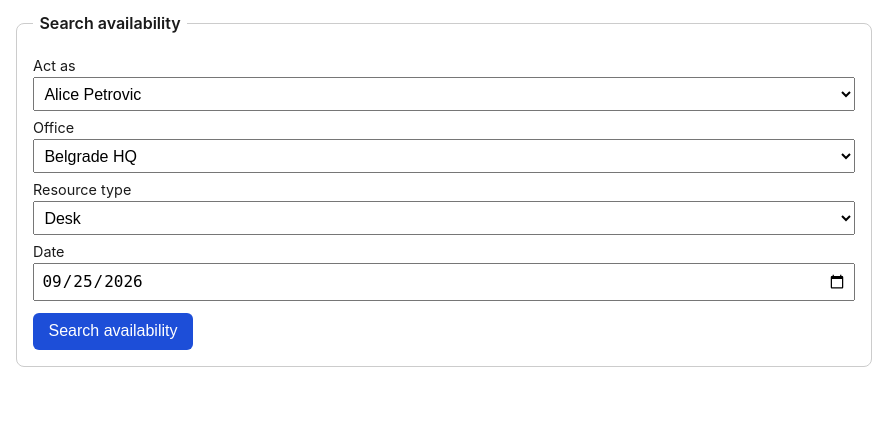
Test: SearchPanel (TASK-17 §A, booking creation rendering) › renders an error message when availability search fails
Click the button "Search availability": (113, 332) [33,313,193,350]
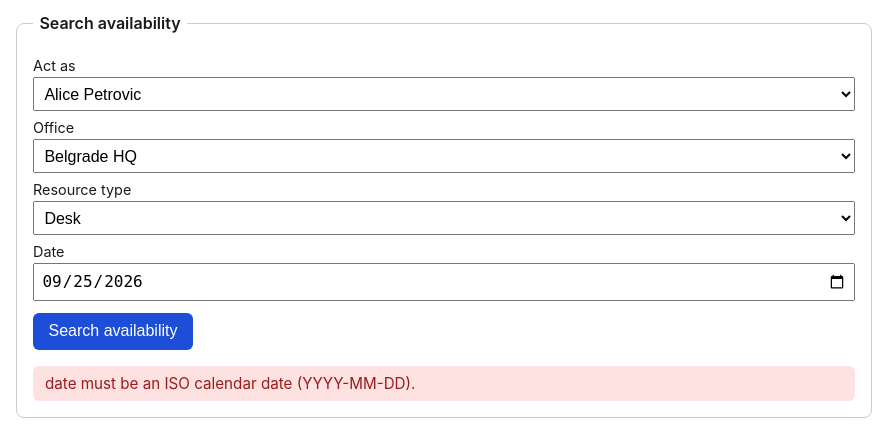
Result: the text "date must be an ISO calendar date (YYYY-MM-DD)." is shown at [33,366,855,401]
